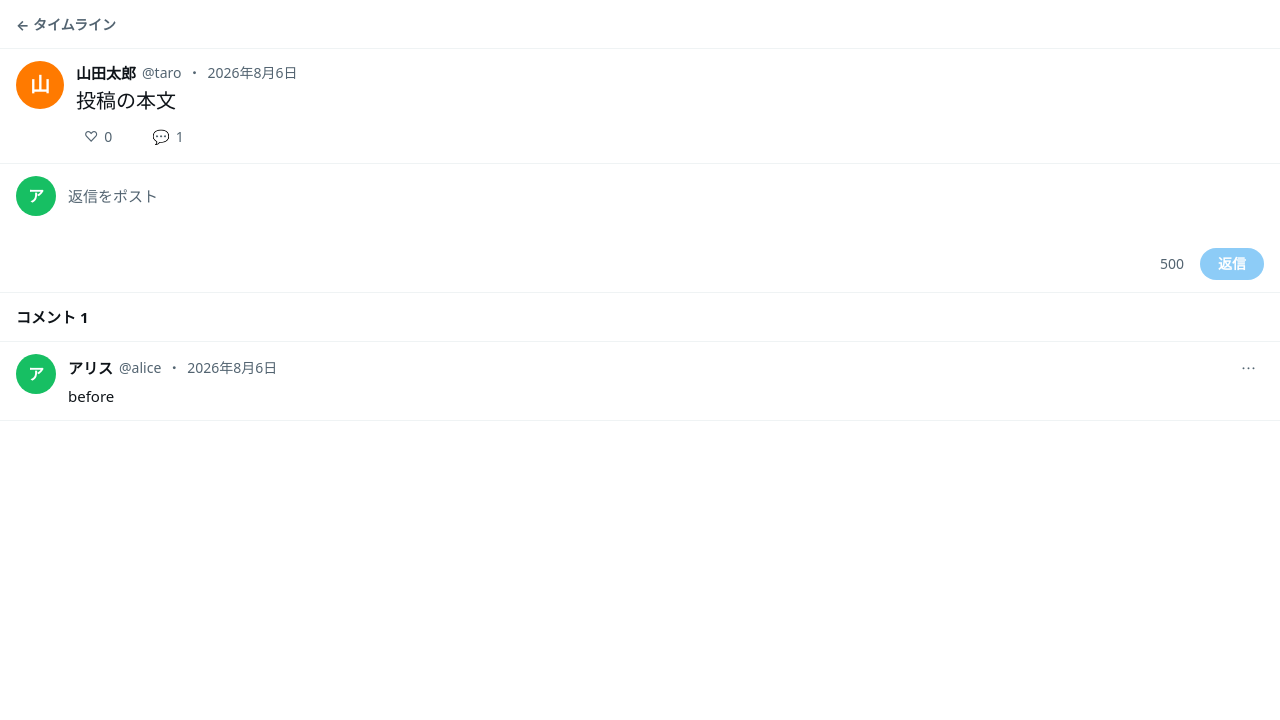
Test case: PostDetailPage › 自分のコメントを編集すると updateComment の結果で一覧を差し替える
Expected: the text "before" is shown, [68, 386, 114, 406]
Click the button "⋯" at (1248, 368), box [1233, 354, 1264, 382]
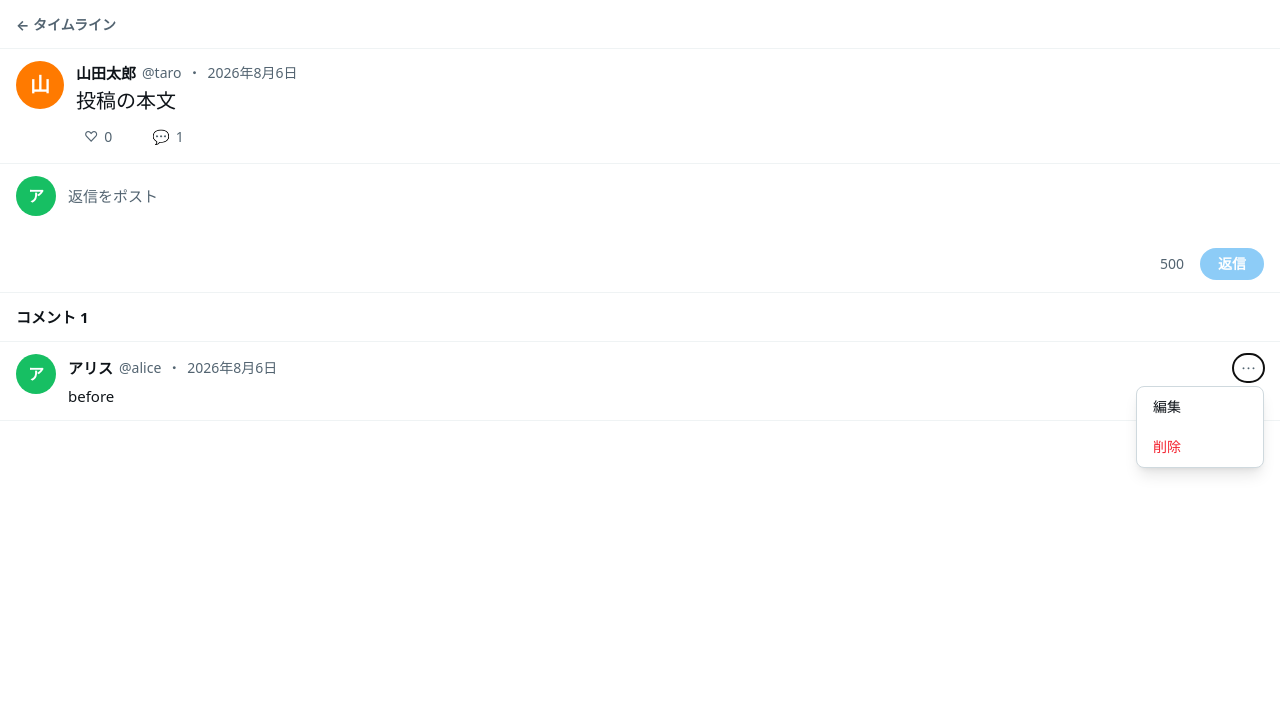
Click the button "編集" at (1200, 407), box [1137, 387, 1263, 427]
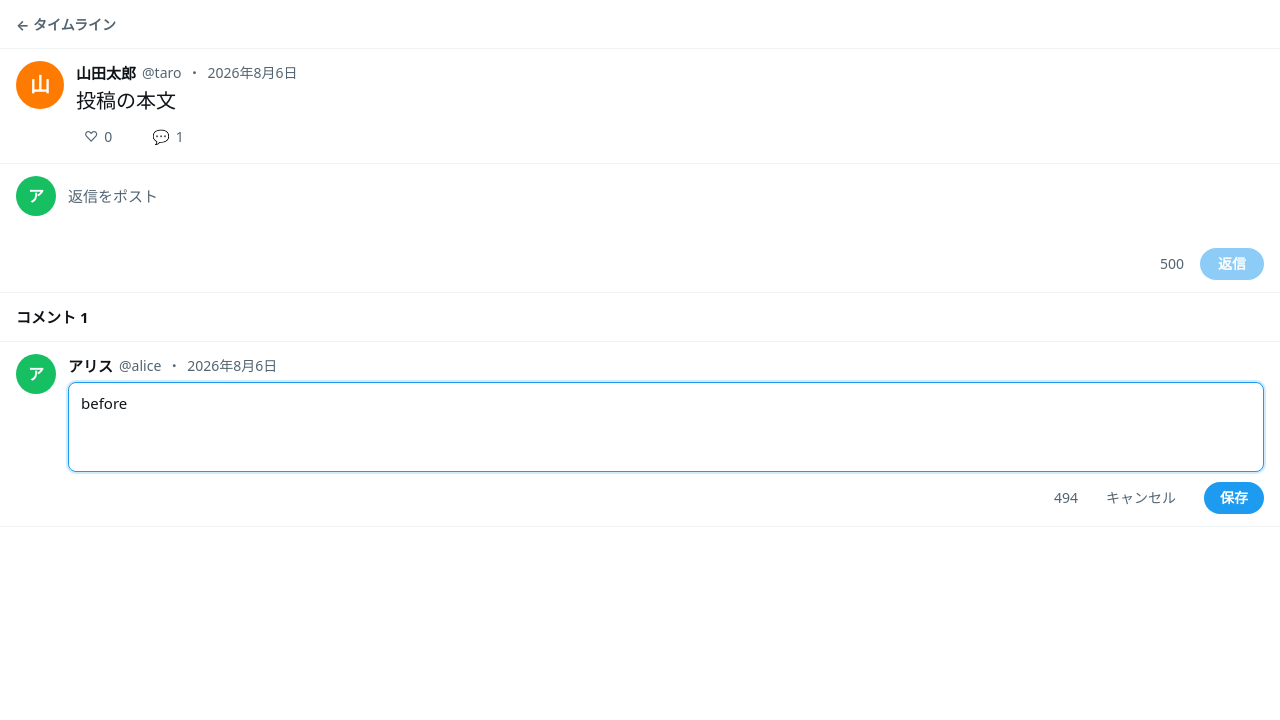
Replace the text in the text box named "コメントの本文を編集" with "after" at (666, 427), box [68, 382, 1264, 472]
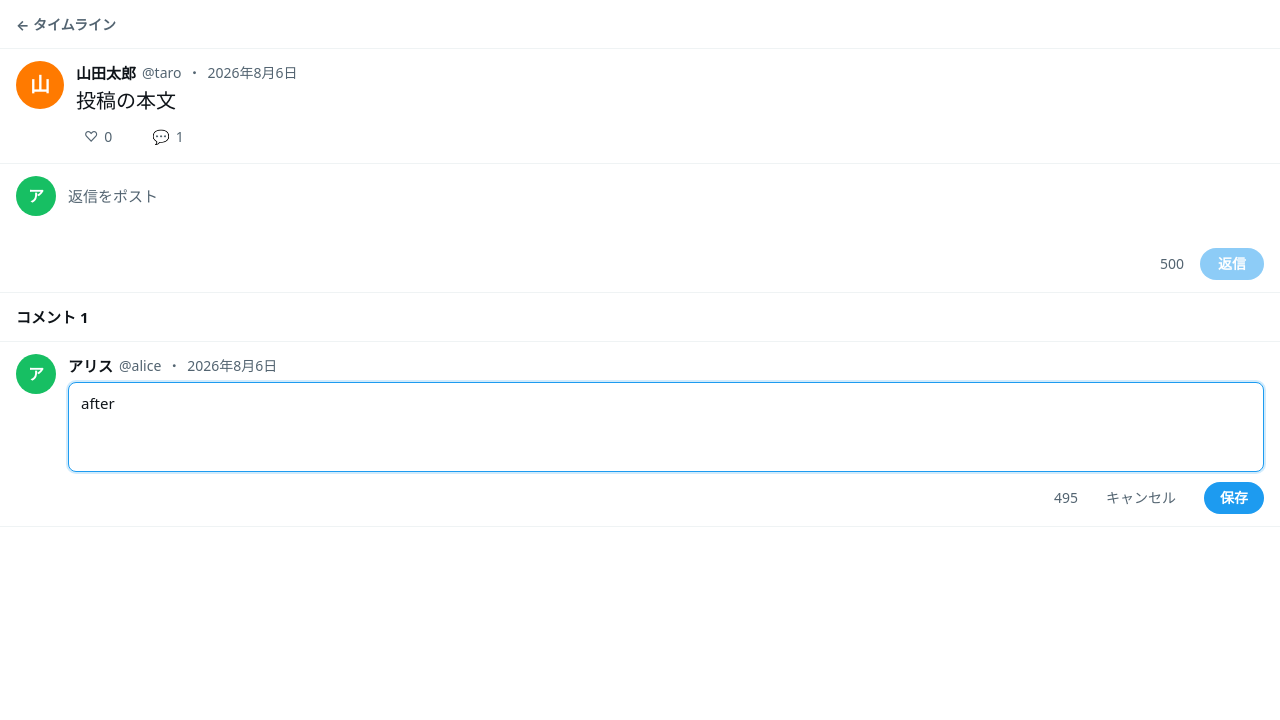
Click the button "保存" at (1234, 498), box [1204, 482, 1264, 514]
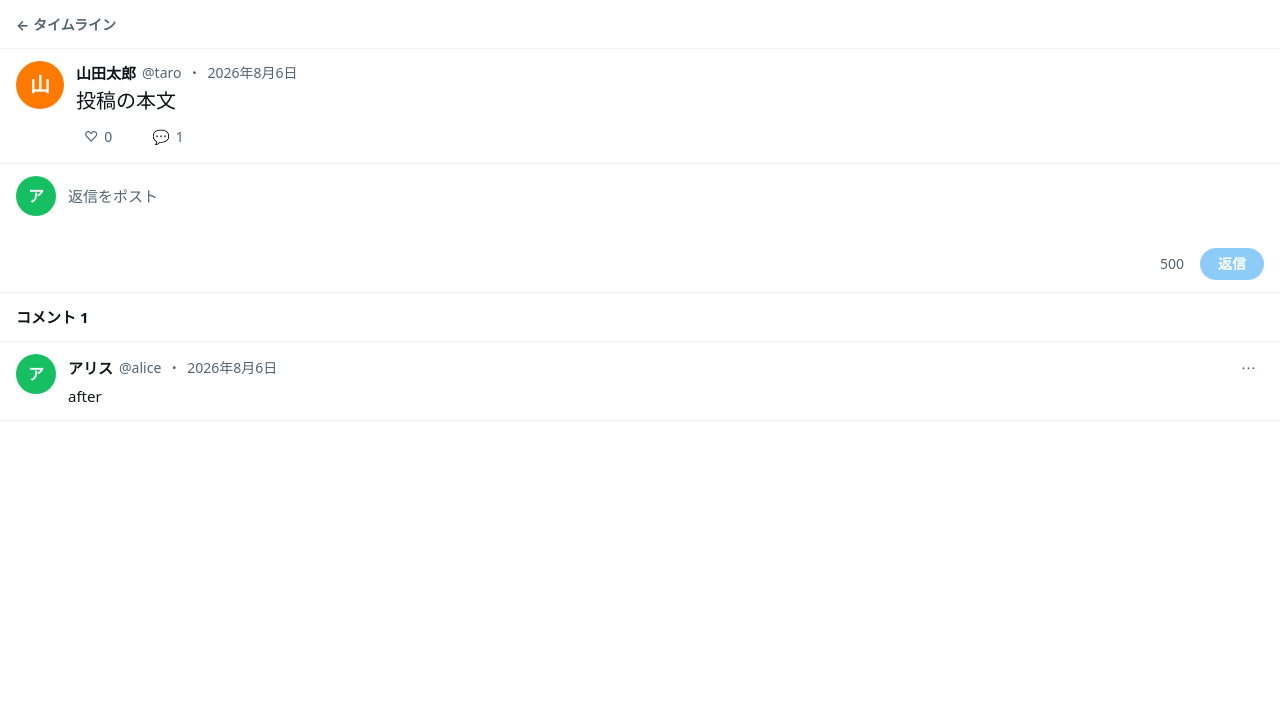
Now the text "after" is shown, box [68, 386, 102, 406]
